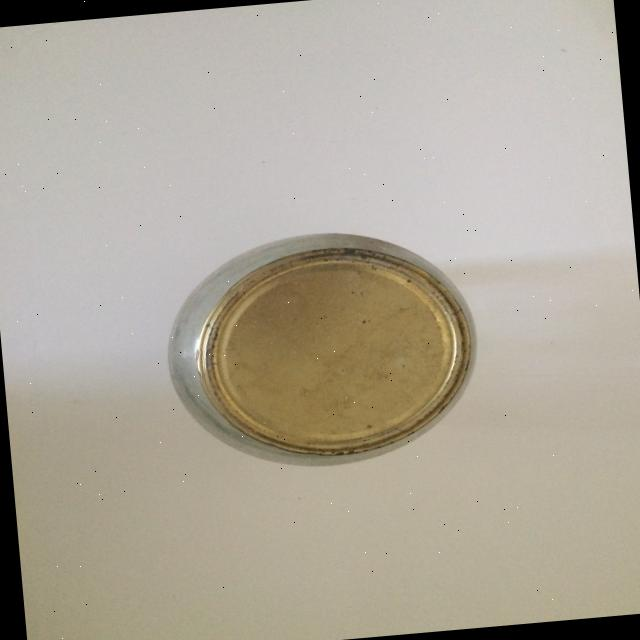glass: (157, 219, 485, 471)
